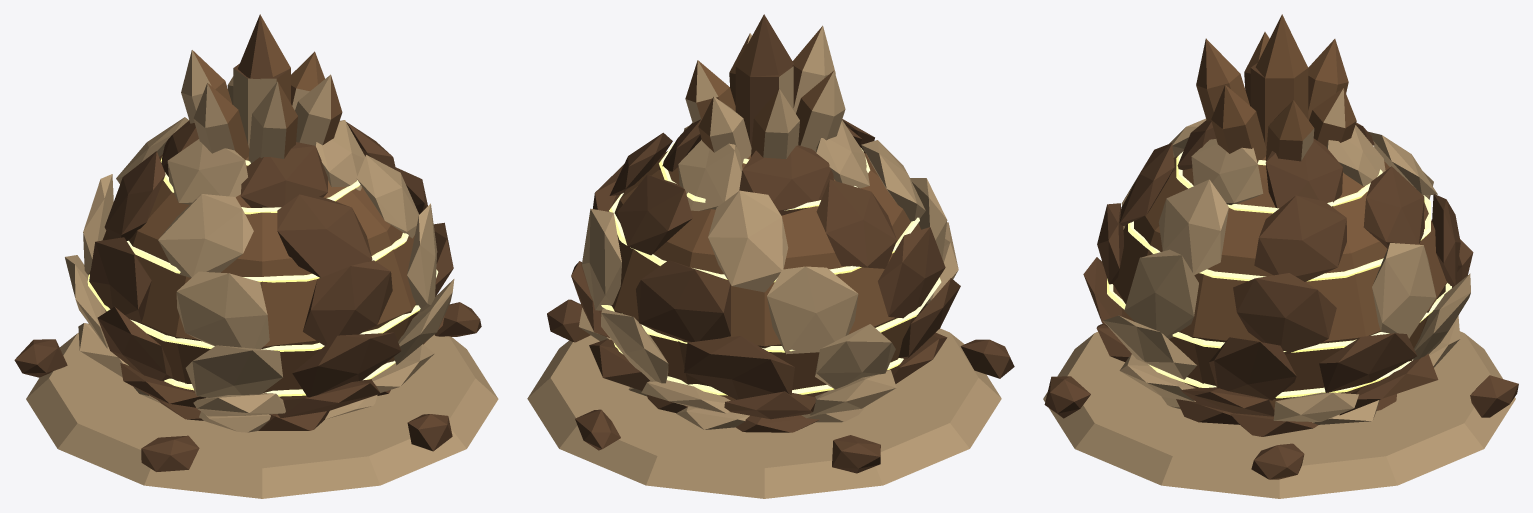
Rendered from fruto-fisico.glb.
3 views of the same model, side by side, from view 1: azimuth 30°, elevation 25°; view 2: azimuth 150°, elevation 25°; view 3: azimuth 270°, elevation 25° (orthographic).
Visible parts, largest first — view 1: Fruit_Body; view 2: Fruit_Body; view 3: Fruit_Body.
Part boxes in pixels (bbox=[...]): Fruit_Body: bbox=[14, 14, 498, 498]; Fruit_Body: bbox=[527, 14, 1014, 498]; Fruit_Body: bbox=[1043, 14, 1518, 498].
Size of the model in its own units: 1.68 by 1.47 by 1.65.
